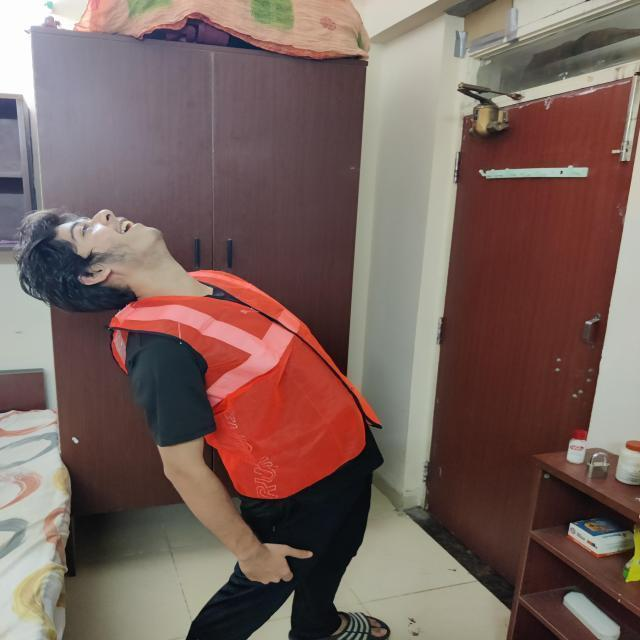no-helmet: (19, 200, 110, 304)
vest: (118, 272, 390, 507)
